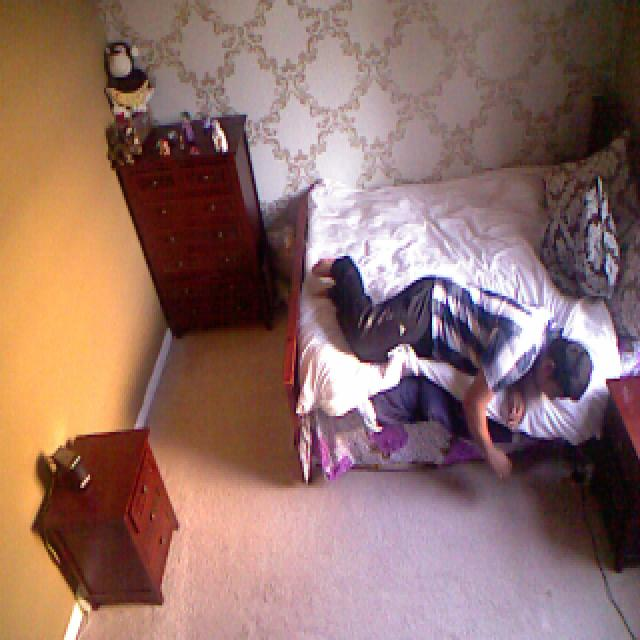lying: (313, 251, 592, 481)
